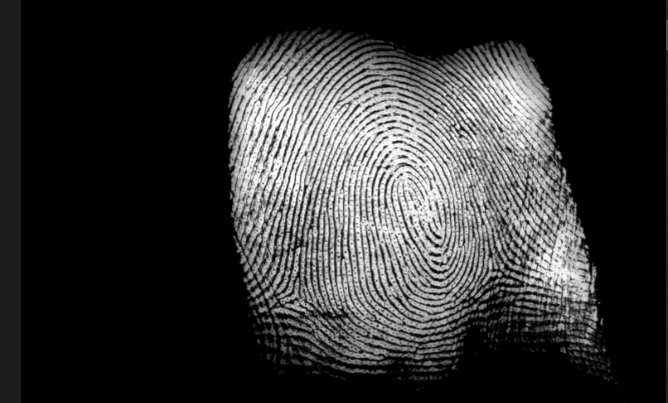deltas: (271, 263, 328, 329), (470, 250, 521, 295)
nucleo: (382, 157, 438, 224)
